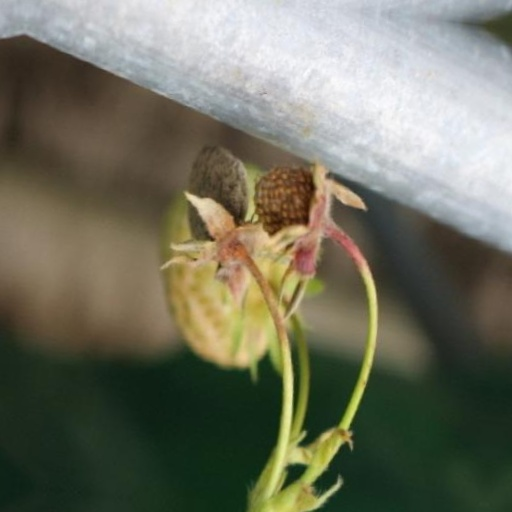Gray Mold: (159, 209, 266, 364)
